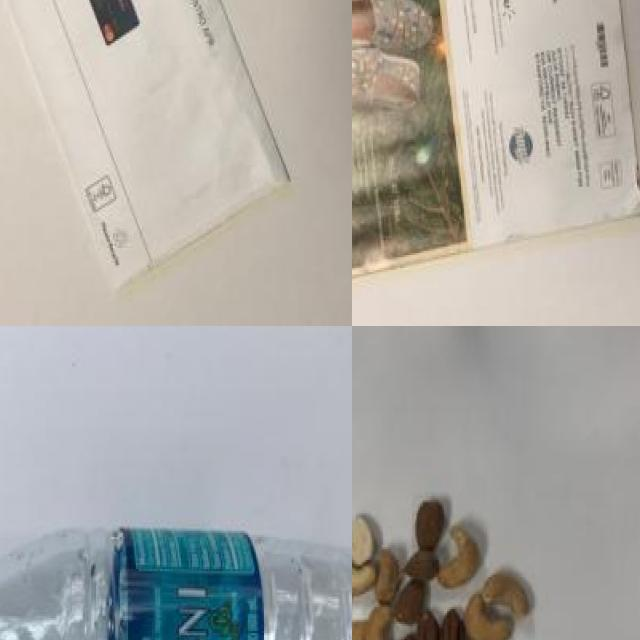compost: (352, 473, 568, 640)
paper: (0, 0, 305, 292), (352, 0, 640, 304)
plastic: (0, 526, 352, 640)
